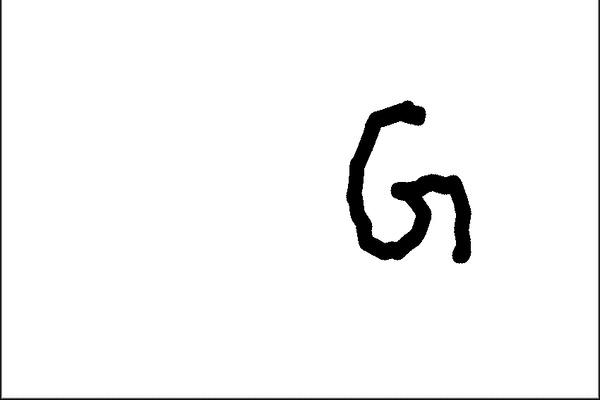G: (343, 99, 477, 268)
